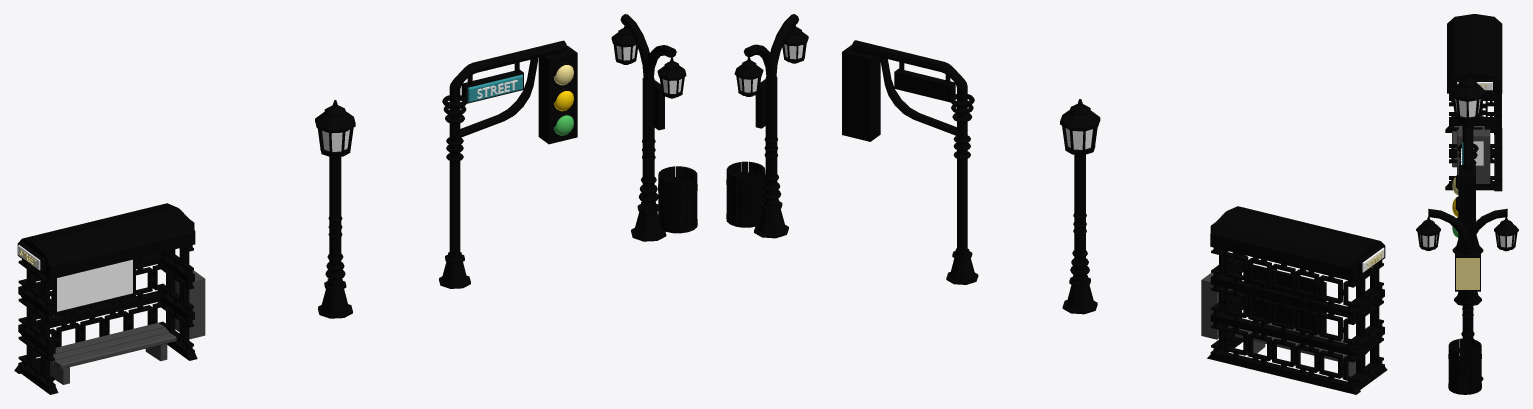
File: cityprops_lv3.fbx
The picture shows the model from 3 angles, left to right: view 1: azimuth 30°, elevation 25°; view 2: azimuth 150°, elevation 25°; view 3: azimuth 270°, elevation 25°; orthographic projection. The views are drawn at different scales.
Parts seen in each view (by area): view 1: station_lv3, trafficlamp_lv3, bigstreetlamp_lv3, streetlamp_lv3; view 2: station_lv3, trafficlamp_lv3, bigstreetlamp_lv3, streetlamp_lv3; view 3: station_lv3, bigstreetlamp_lv3, trafficlamp_lv3, streetlamp_lv3.
Boxes of the visible parts, x1,y1,x2,y2 form: station_lv3: (14, 203, 205, 394); trafficlamp_lv3: (439, 40, 577, 288); bigstreetlamp_lv3: (611, 14, 697, 241); streetlamp_lv3: (315, 100, 355, 318); station_lv3: (1201, 206, 1387, 394); trafficlamp_lv3: (842, 40, 978, 284); bigstreetlamp_lv3: (726, 14, 808, 238); streetlamp_lv3: (1060, 99, 1100, 314); station_lv3: (1445, 14, 1502, 191); bigstreetlamp_lv3: (1416, 208, 1518, 394); trafficlamp_lv3: (1452, 127, 1481, 305); streetlamp_lv3: (1450, 73, 1485, 253).
Size of the model in its own units: 2330 by 725 by 372.
